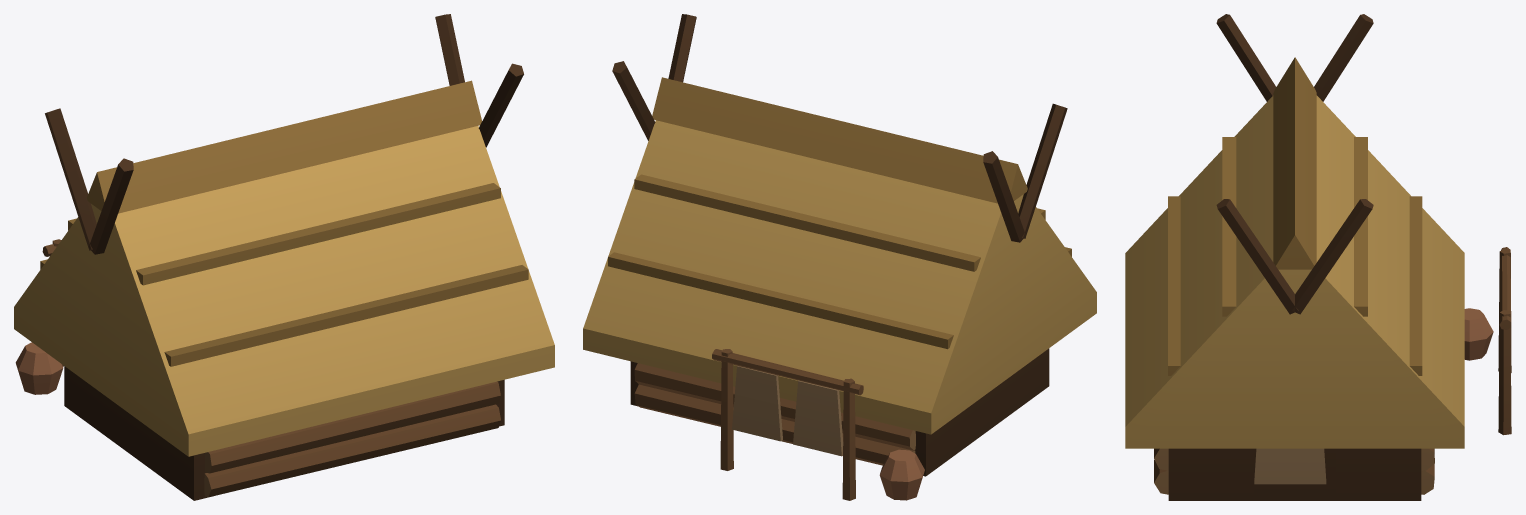
The model's file is house_2_s2.glb.
3 renders of one model, left to right at view 1: azimuth 30°, elevation 25°; view 2: azimuth 150°, elevation 25°; view 3: azimuth 270°, elevation 25°, orthographic. The views are drawn at different scales.
Parts seen in each view (by area): view 1: house_2_s2; view 2: house_2_s2; view 3: house_2_s2.
Part boxes in pixels (bbox=[...]): house_2_s2: bbox=[14, 14, 554, 500]; house_2_s2: bbox=[583, 14, 1096, 500]; house_2_s2: bbox=[1125, 14, 1511, 500].
Bounding box in the file's own units: 1.88 × 1.47 × 1.6.
